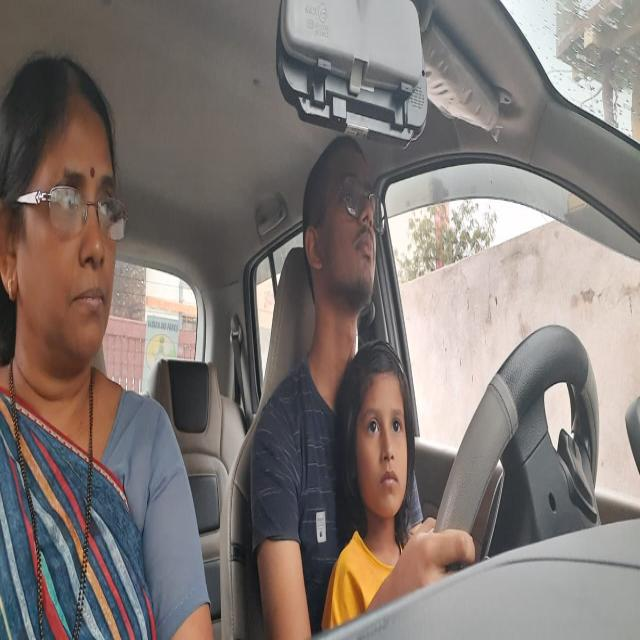child: (334, 338, 426, 548)
person: (0, 49, 132, 381), (302, 133, 393, 322)
